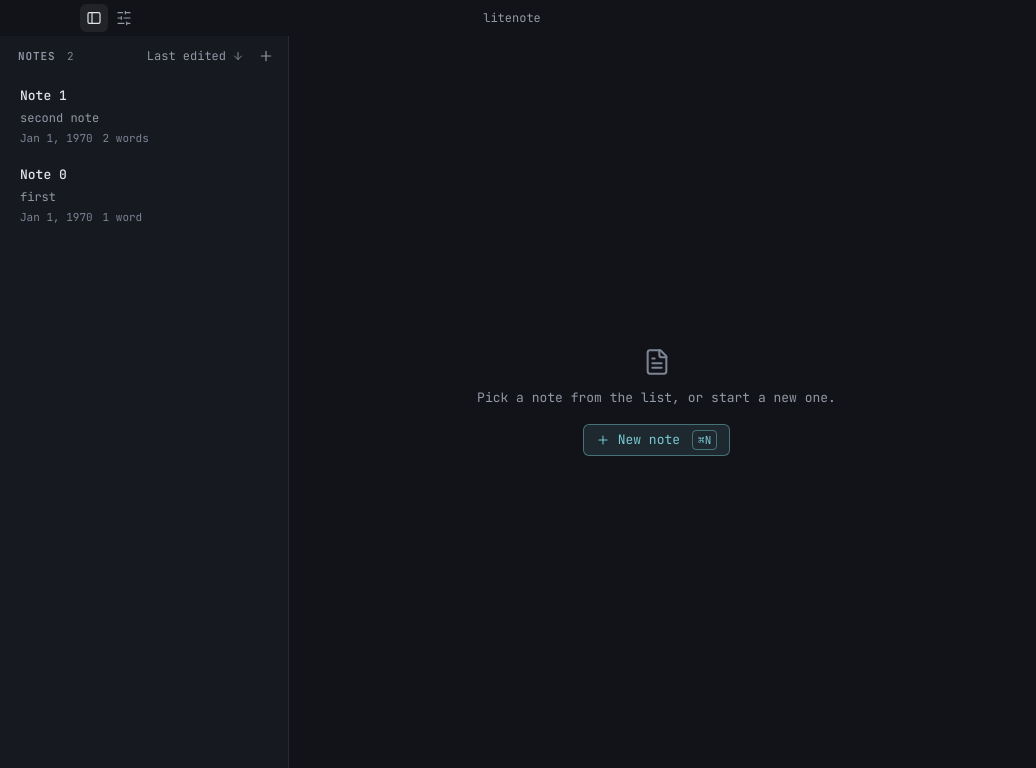
Test: App › renaming › renames the open note from its title, updating the list and titlebar
Click the text "Note 0". click: (43, 174)
box: [20,166,67,183]
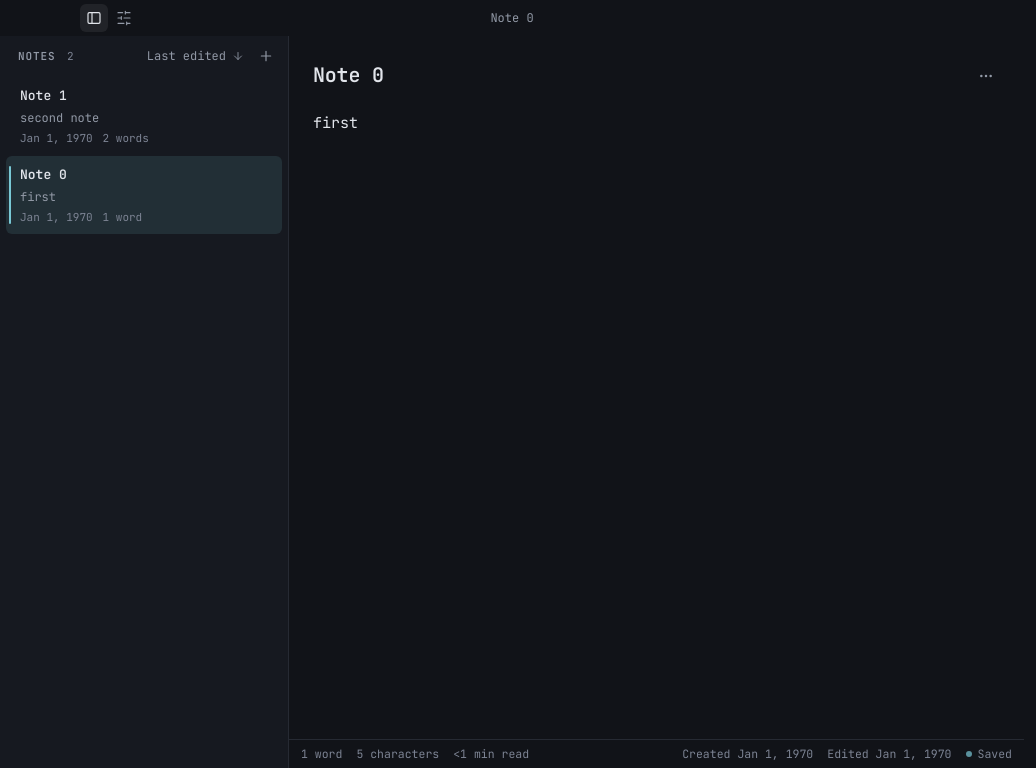
Replace the text in the field named "Note title" with "Ideas". click: (638, 76)
box: [313,56,964,95]
Then press Enter
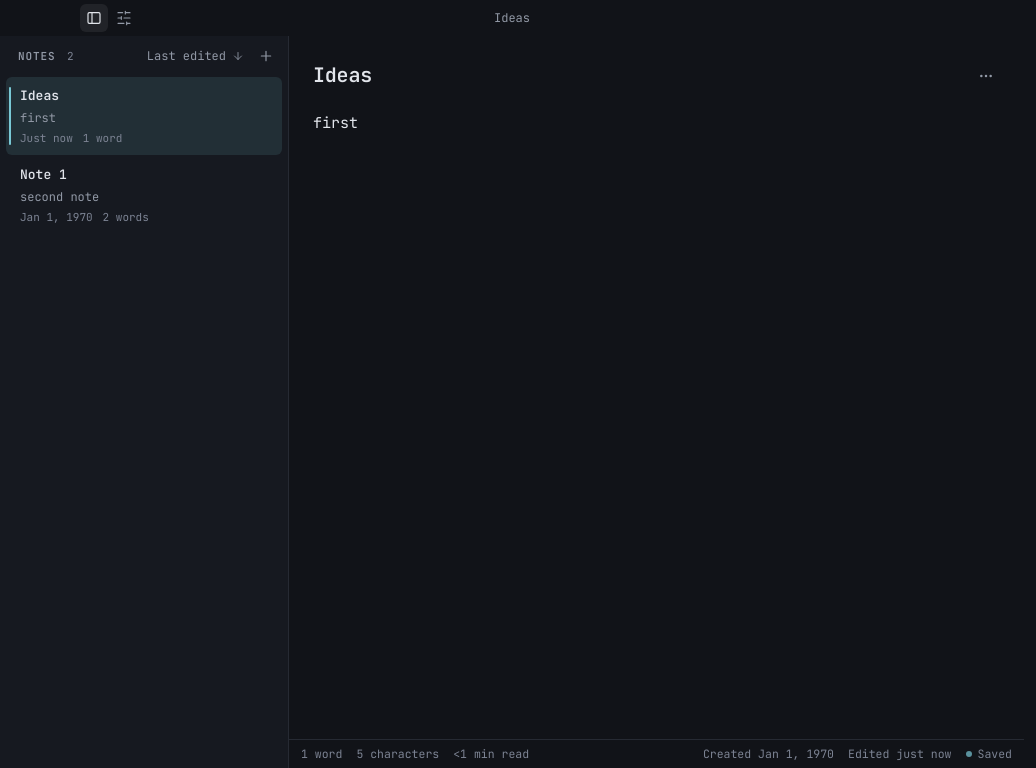
Now the text "Ideas" below "Notes" is shown, box [20,87,59,104]
Now the text with class "titlebarTitle" reads "Ideas", box [494,10,530,26]
